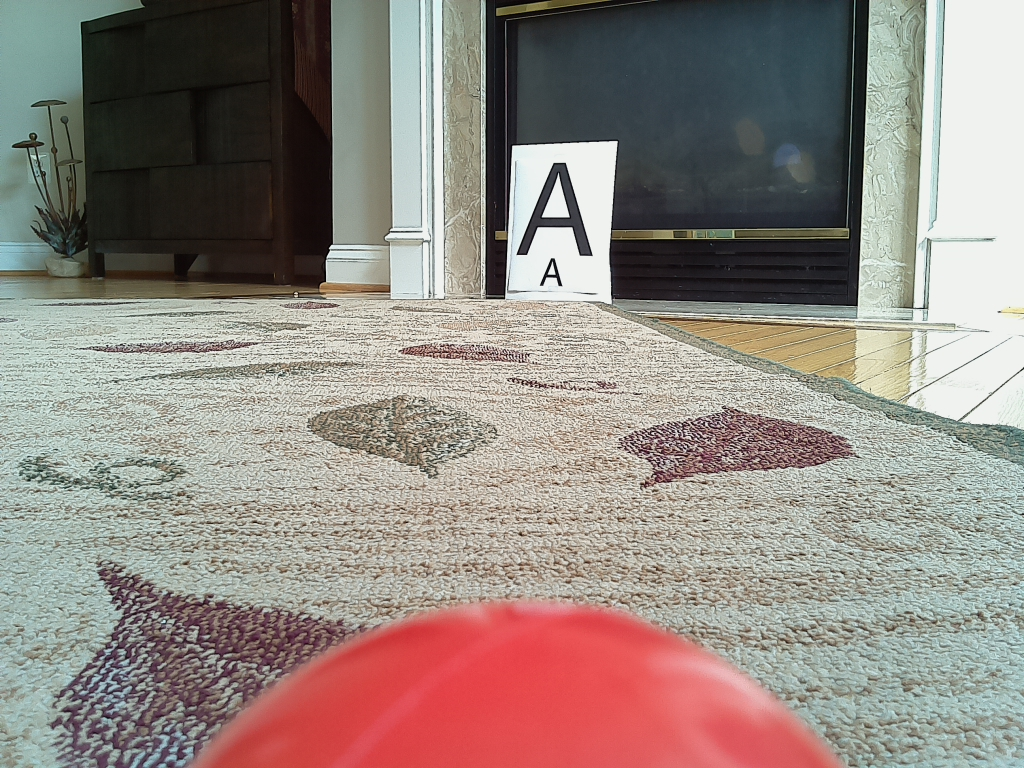letter: (518, 162, 593, 256)
